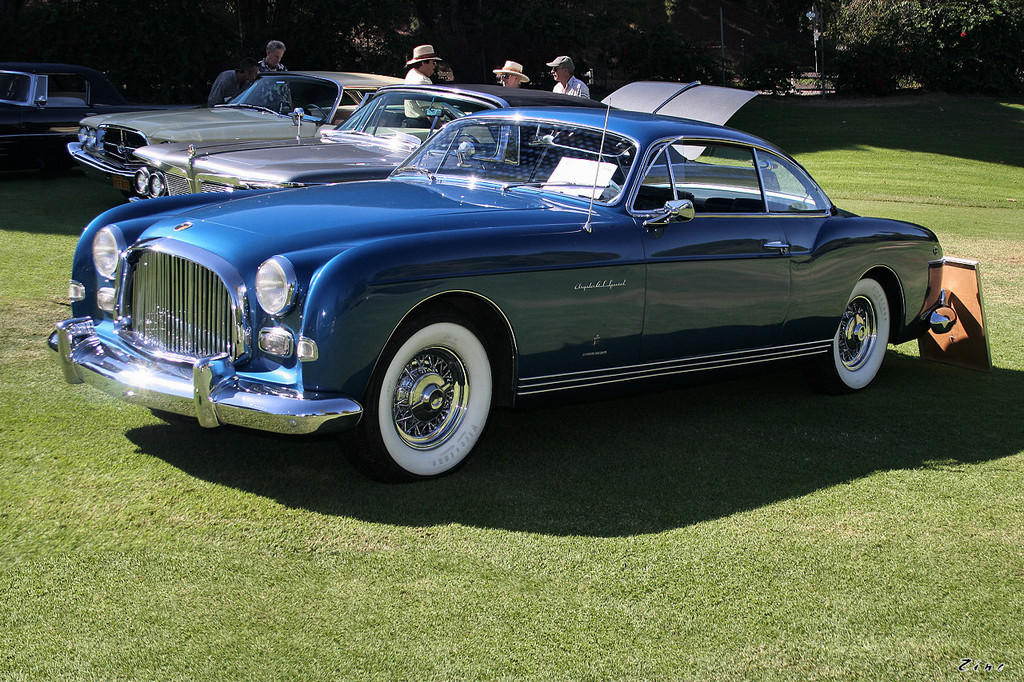Car: (44, 96, 956, 482), (129, 80, 783, 200), (62, 72, 403, 190), (0, 61, 195, 167)
